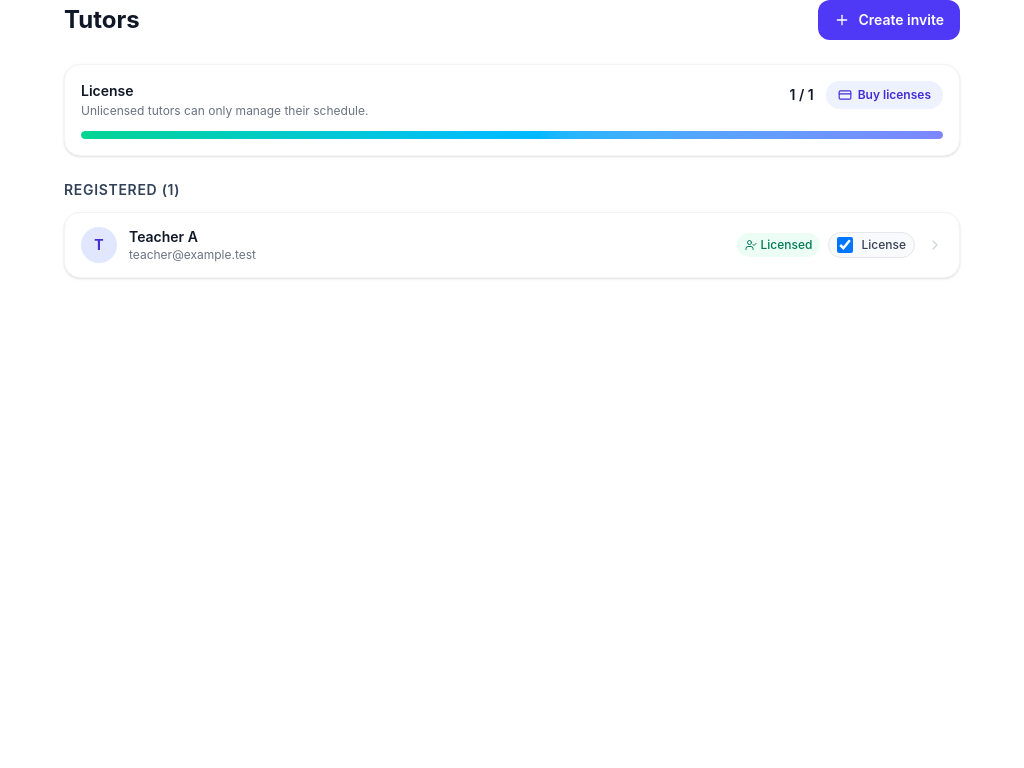
it: school administrator teacher-pay details › uses the organization default for school teacher pay when the tutor rate is unset
Click the button "Teacher A" at coordinates (99, 245), box [64,212,960,278]
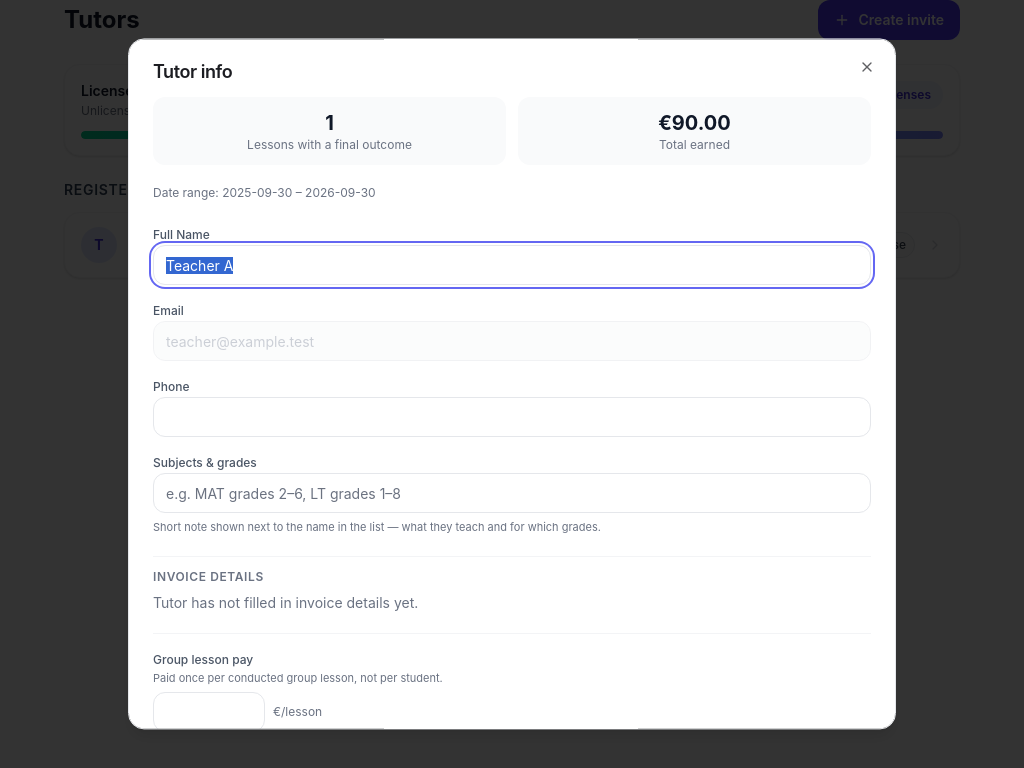
Expected: the number field is empty, [153,692,265,730]
Expected: the text "€90.00" is shown, [658,111,731,135]
